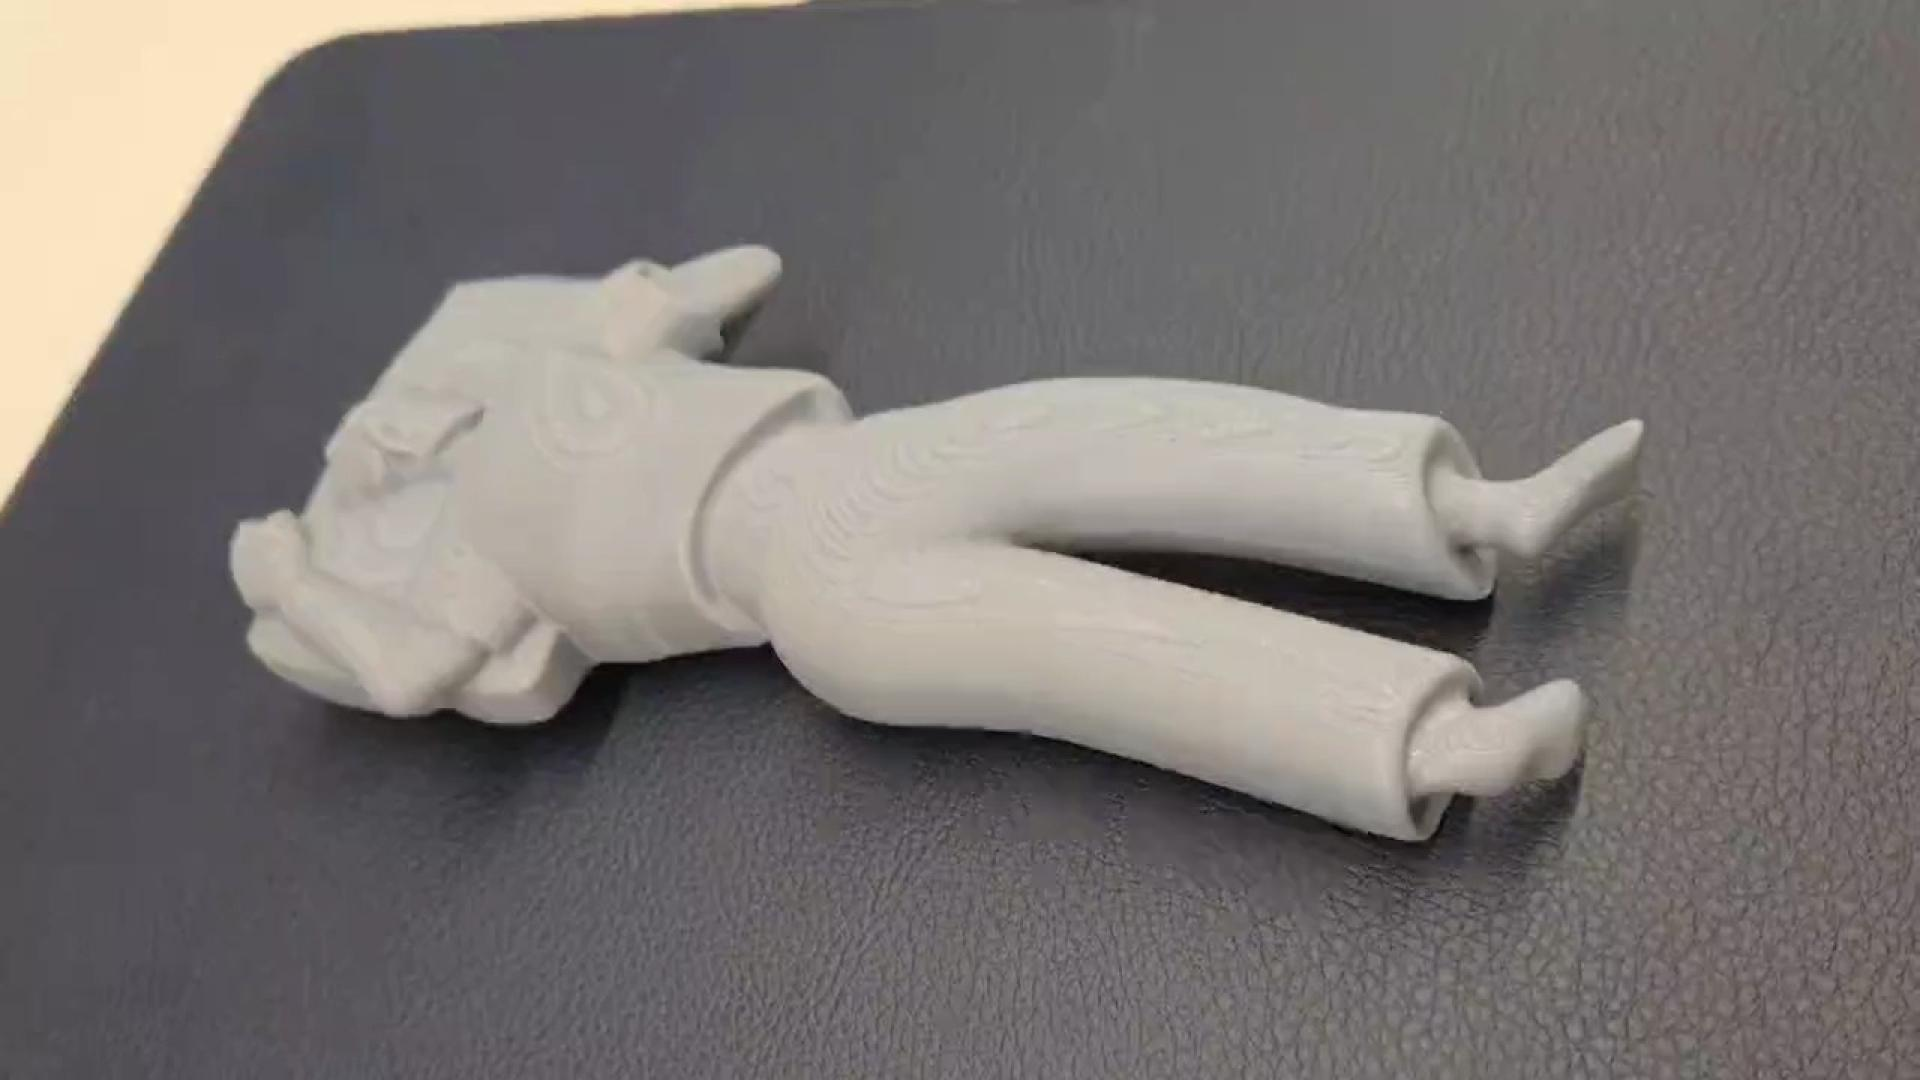Bad-style: (236, 237, 1654, 843)
